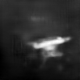plane: (26, 35, 72, 60)
